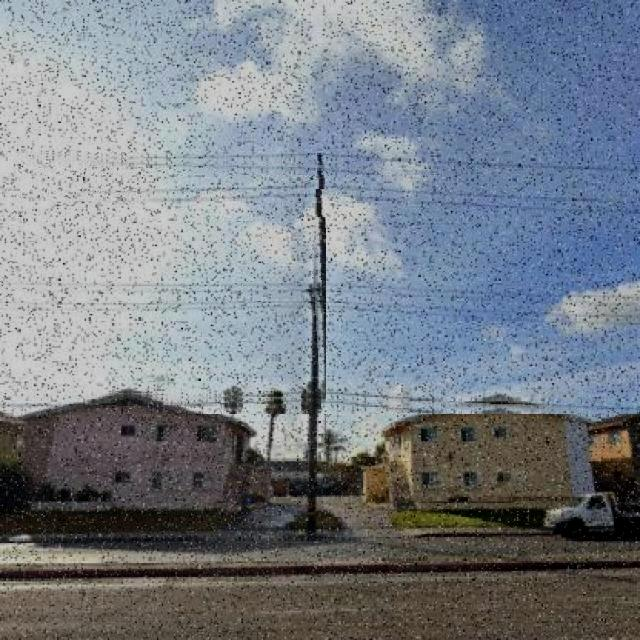pole: (315, 153, 326, 536)
wire: (2, 190, 638, 217), (1, 396, 574, 414), (0, 163, 481, 175)
